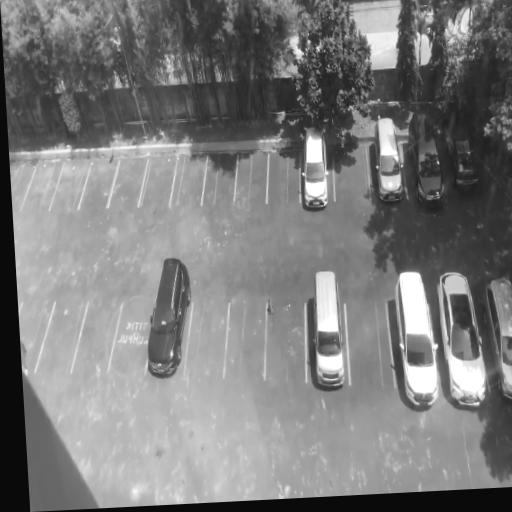Car: (433, 269, 490, 407), (391, 265, 442, 410), (143, 254, 192, 378), (402, 107, 450, 213), (482, 268, 512, 408), (436, 110, 483, 192), (311, 267, 343, 387), (372, 117, 408, 209), (301, 122, 330, 212)
Space Available: (344, 300, 395, 389), (34, 299, 89, 373), (71, 299, 123, 372), (182, 300, 228, 379), (108, 298, 156, 373), (223, 301, 266, 382), (265, 303, 307, 385), (19, 304, 55, 372), (333, 144, 370, 205), (47, 161, 92, 211), (136, 157, 178, 210), (265, 147, 300, 209), (78, 160, 121, 210), (168, 153, 206, 209), (200, 154, 238, 210), (107, 157, 146, 211), (20, 163, 62, 210), (234, 150, 269, 205), (10, 164, 36, 213)
